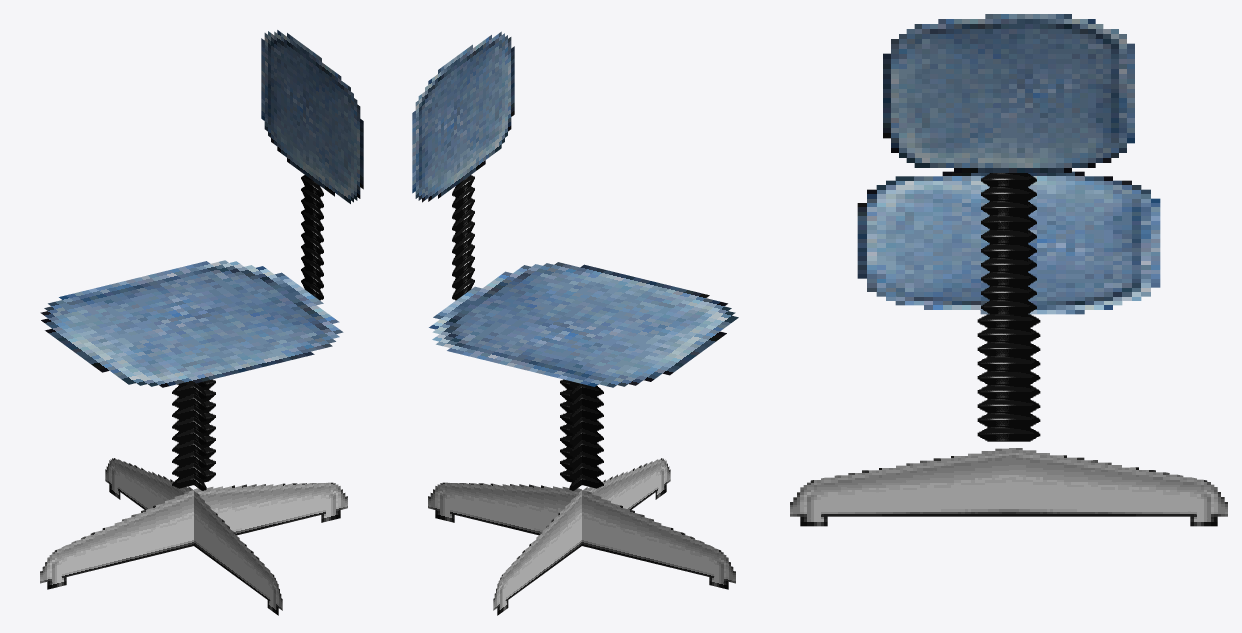
File: blue_chair.glb
The picture shows the model from 3 angles, left to right: view 1: azimuth 30°, elevation 25°; view 2: azimuth 150°, elevation 25°; view 3: azimuth 270°, elevation 25°; orthographic projection. The views are drawn at different scales.
Visible parts, largest first — view 1: Object; view 2: Object; view 3: Object.
Boxes of the visible parts, bbox=[...] form: Object: bbox=[40, 30, 363, 615]; Object: bbox=[412, 31, 738, 615]; Object: bbox=[790, 14, 1227, 526].
Size of the model in its own units: 0.7397 by 1.09 by 0.7397.
Materials: 3 (3 with a texture image).
